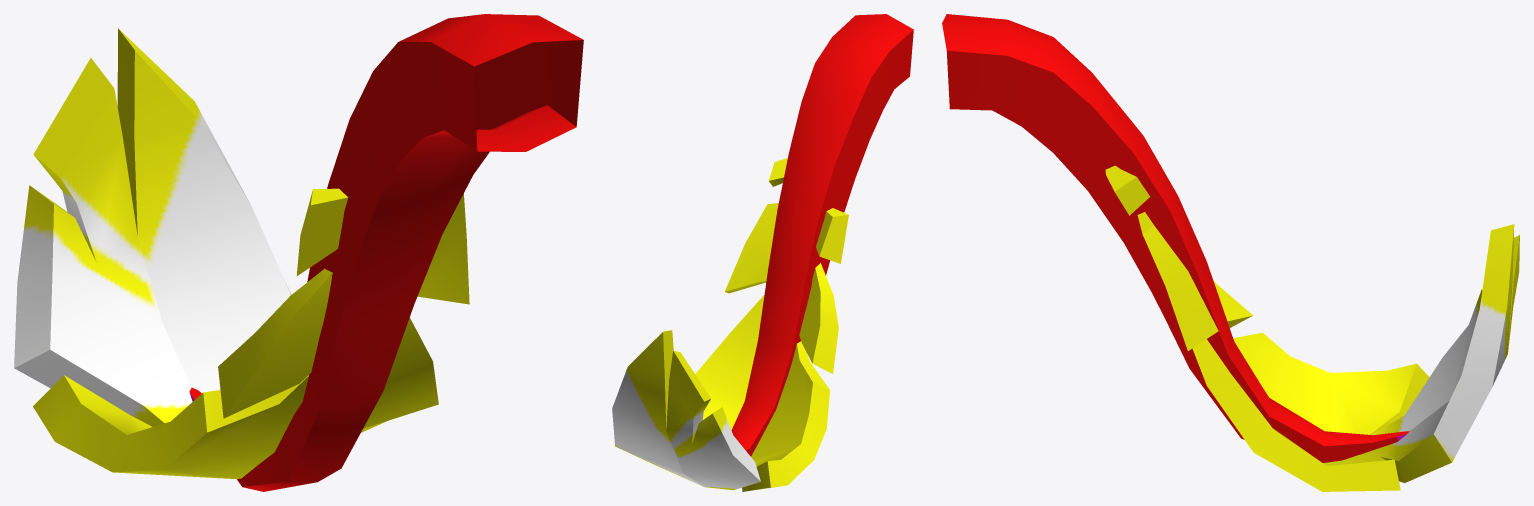
The model's file is fanned.glb.
The picture shows the model from 3 angles, left to right: view 1: azimuth 30°, elevation 25°; view 2: azimuth 150°, elevation 25°; view 3: azimuth 270°, elevation 25°; orthographic projection. The views are drawn at different scales.
Visible parts, largest first — view 1: Tail_1; view 2: Tail_1; view 3: Tail_1.
Part boxes in pixels (<box>): Tail_1: <box>14,14,583,491</box>; Tail_1: <box>612,14,913,491</box>; Tail_1: <box>942,14,1519,491</box>.
Size of the model in its own units: 0.3304 by 0.6908 by 0.8133.
Materials: 1 (1 with a texture image).
